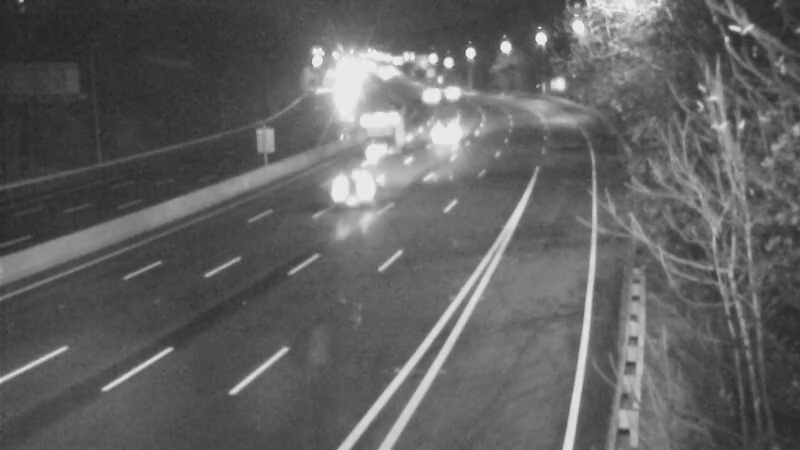vehicle: (309, 148, 389, 228), (426, 67, 476, 117), (403, 72, 453, 122), (427, 107, 477, 157), (362, 107, 412, 157)
